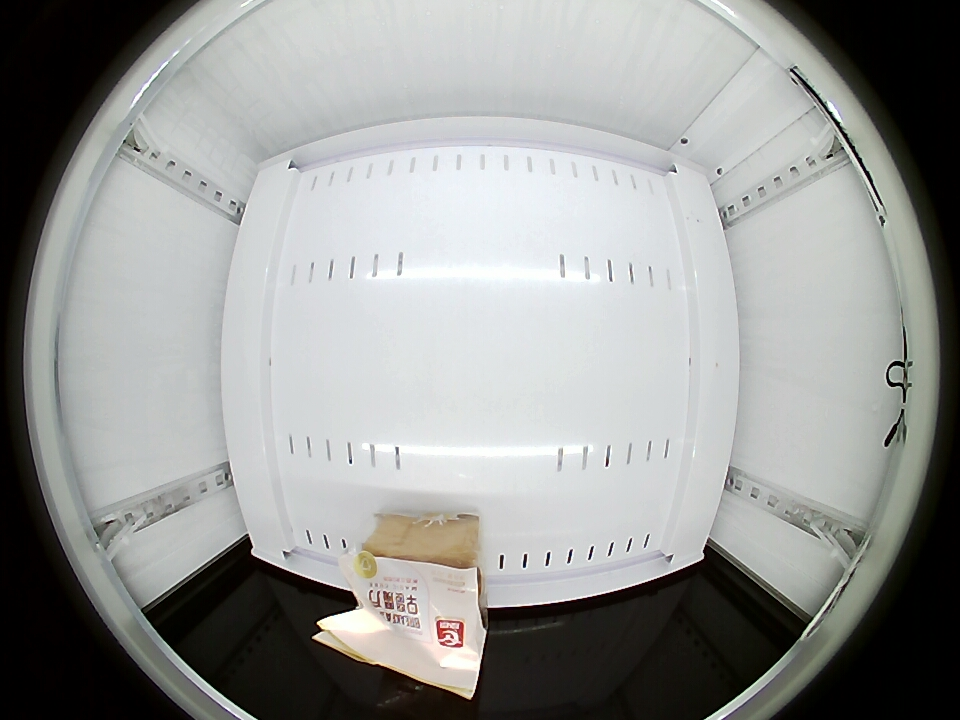zaocanmofang: (339, 522, 484, 696)
